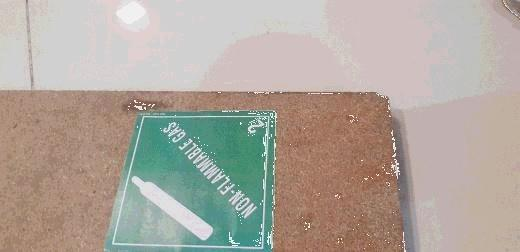non-flammable-gas: (102, 110, 278, 252)
